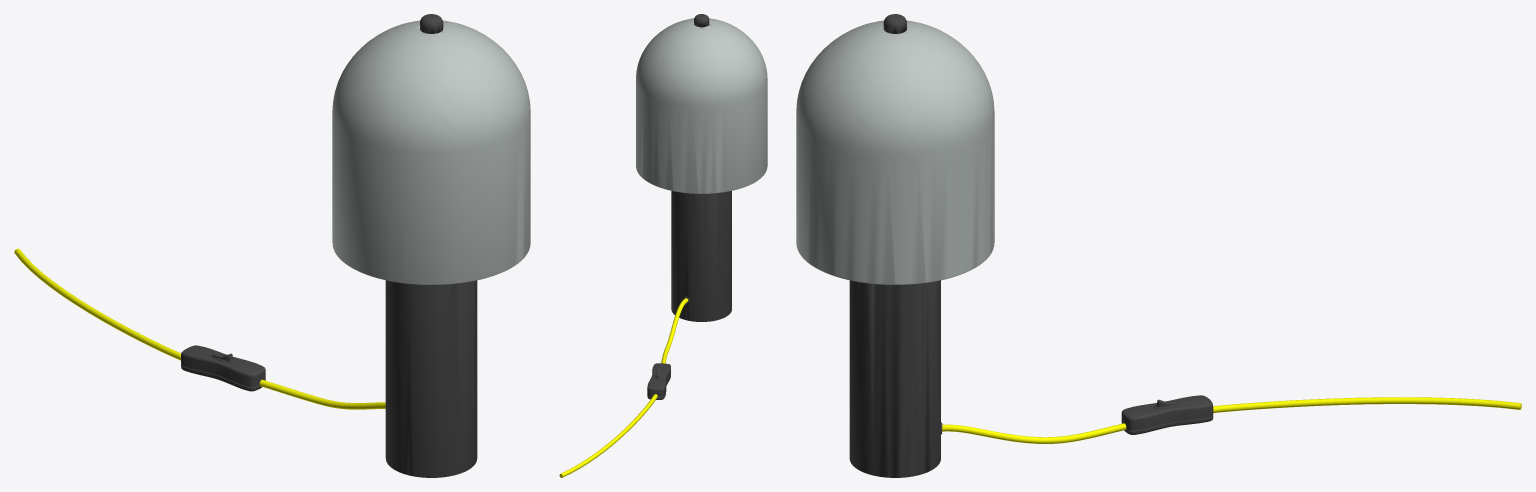
Rendered from designconnected-clarine-table-lamp-9984.optimized.glb.
3 renders of one model, left to right at view 1: azimuth 30°, elevation 25°; view 2: azimuth 150°, elevation 25°; view 3: azimuth 270°, elevation 25°, orthographic. The views are drawn at different scales.
Parts seen in each view (by area): view 1: Ligne_Roset_Clarine; view 2: Ligne_Roset_Clarine; view 3: Ligne_Roset_Clarine.
Part boxes in pixels (x1,y1,x2,y2): Ligne_Roset_Clarine: (14,14,530,477); Ligne_Roset_Clarine: (559,14,767,477); Ligne_Roset_Clarine: (796,14,1521,477).
Size of the model in its own units: 0.1508 by 0.3203 by 0.4757.
